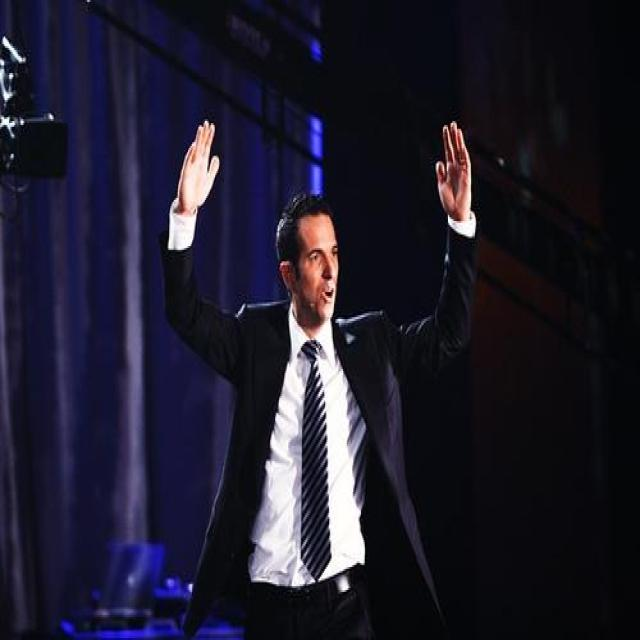No_Gloves: (415, 112, 477, 218), (176, 117, 224, 219)
